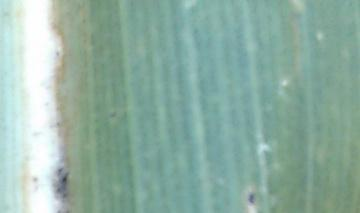tarspot: (62, 168, 71, 185), (106, 109, 118, 120), (247, 190, 255, 204), (53, 46, 62, 57), (53, 208, 72, 213), (55, 165, 63, 176), (30, 175, 38, 183), (54, 186, 63, 193), (60, 192, 69, 199)
